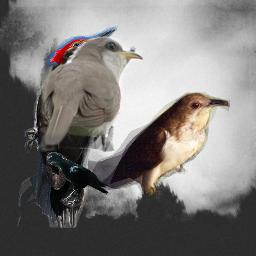Crow: (46, 152, 109, 207)
Cuckoo: (88, 92, 230, 196), (37, 36, 143, 152)
Woodpecker: (17, 26, 122, 228)
